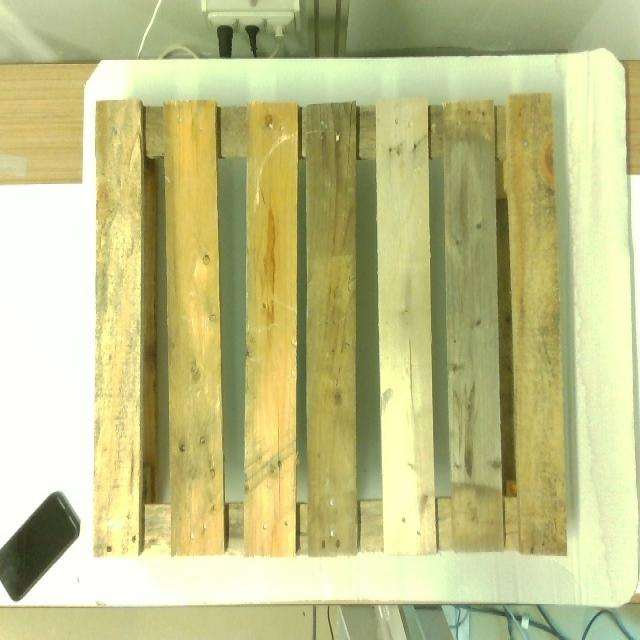pallet: (96, 95, 567, 557)
